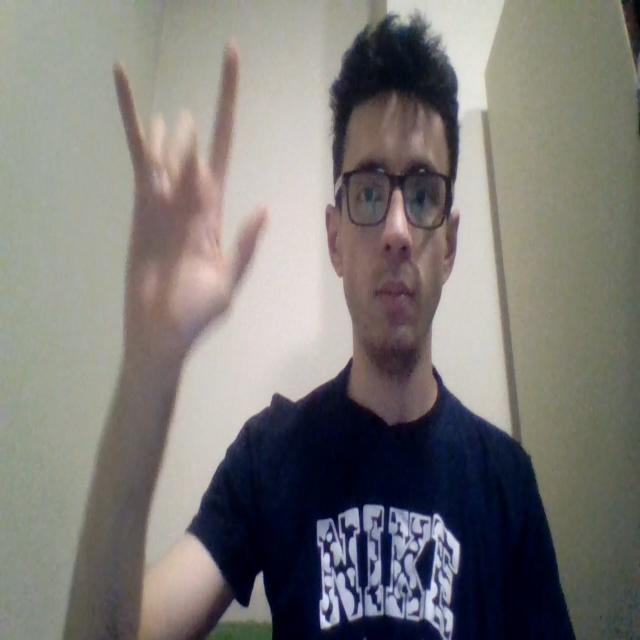iloveyou: (111, 38, 268, 372)
